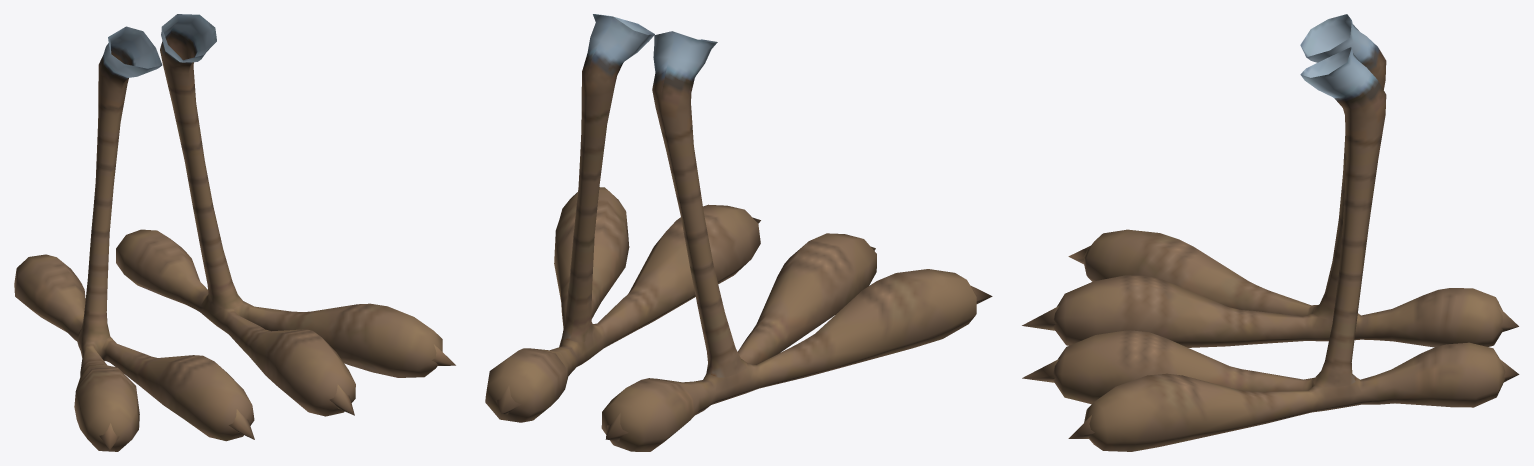
The model's file is PiernasCC.obj.
The picture shows the model from 3 angles, left to right: view 1: azimuth 30°, elevation 25°; view 2: azimuth 150°, elevation 25°; view 3: azimuth 270°, elevation 25°; orthographic projection. The views are drawn at different scales.
Parts seen in each view (by area): view 1: polySurface15; view 2: polySurface15; view 3: polySurface15.
Part boxes in pixels (x1,y1,x2,y2): polySurface15: (14, 14, 455, 451); polySurface15: (485, 14, 992, 451); polySurface15: (1022, 14, 1519, 451).
Bounding box in the file's own units: 12.61 × 10.73 × 14.22.
1 material, 1 textured.
